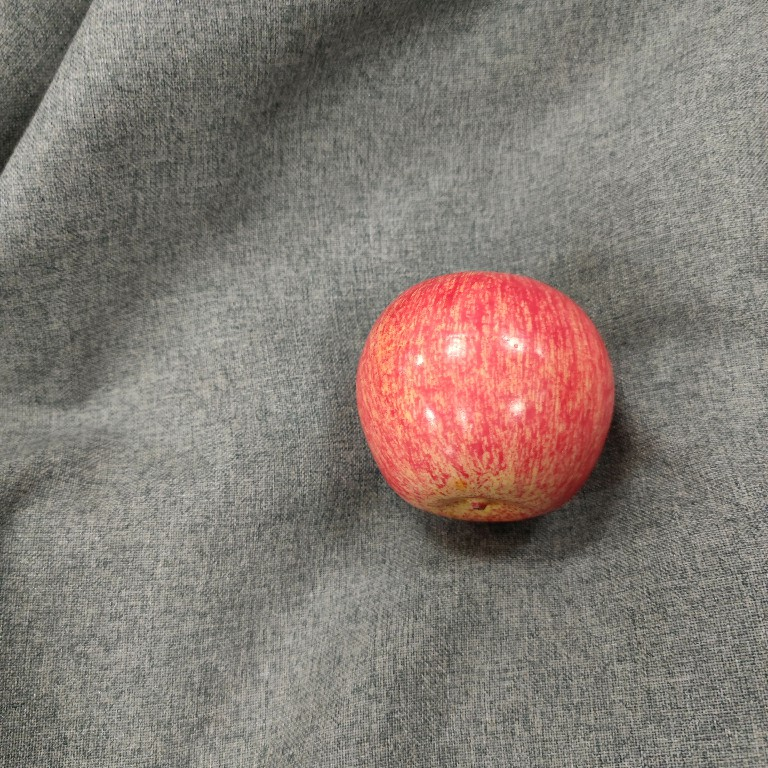fruit_apple: (350, 265, 622, 529)
